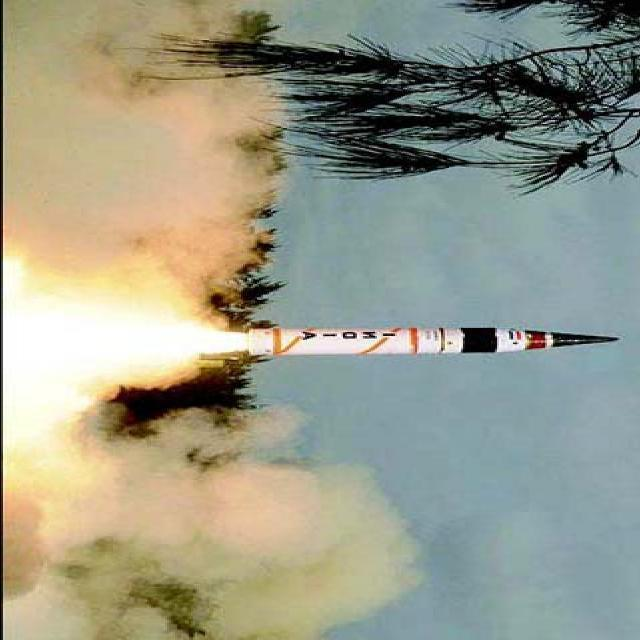missile: (247, 321, 622, 360)
